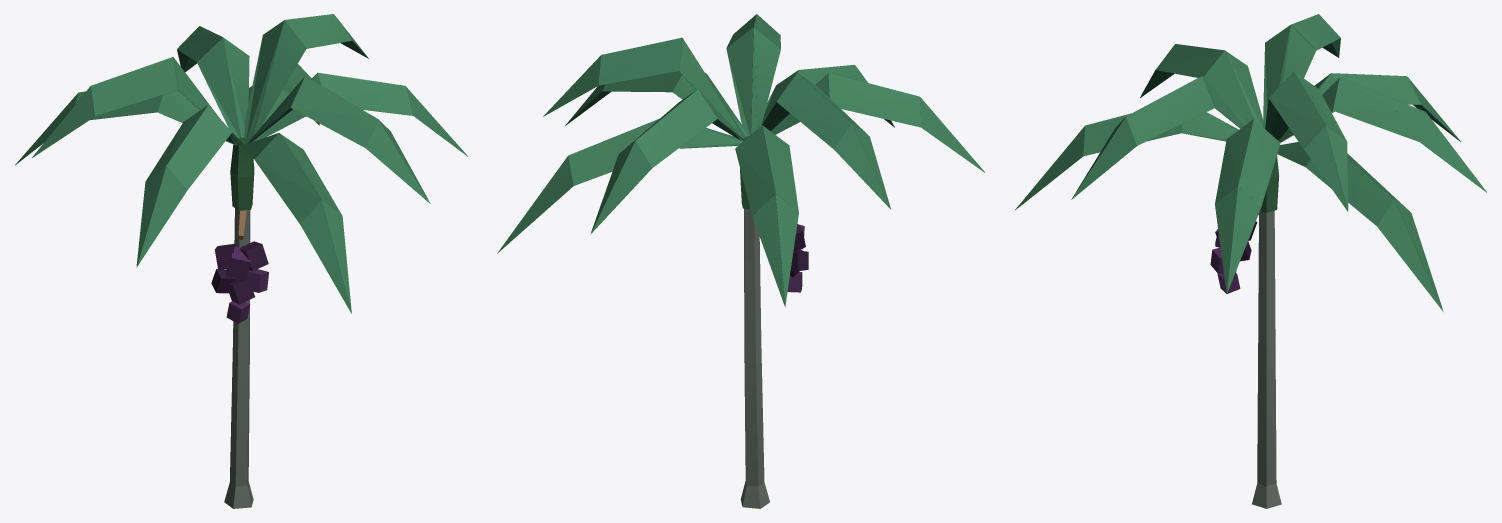
The model's file is custom-palmeira-jucara.glb.
3 renders of one model, left to right at view 1: azimuth 30°, elevation 25°; view 2: azimuth 150°, elevation 25°; view 3: azimuth 270°, elevation 25°, orthographic.
Visible parts, largest first — view 1: palmeira-jucara, cacho-frutos; view 2: palmeira-jucara, cacho-frutos; view 3: palmeira-jucara, cacho-frutos.
Boxes of the visible parts, bbox=[...] form: palmeira-jucara: bbox=[15, 14, 467, 508]; cacho-frutos: bbox=[211, 210, 268, 323]; palmeira-jucara: bbox=[497, 14, 984, 508]; cacho-frutos: bbox=[787, 224, 808, 292]; palmeira-jucara: bbox=[1015, 14, 1486, 508]; cacho-frutos: bbox=[1210, 214, 1258, 293].
Bounding box in the file's own units: 6.95 × 8 × 7.48.
